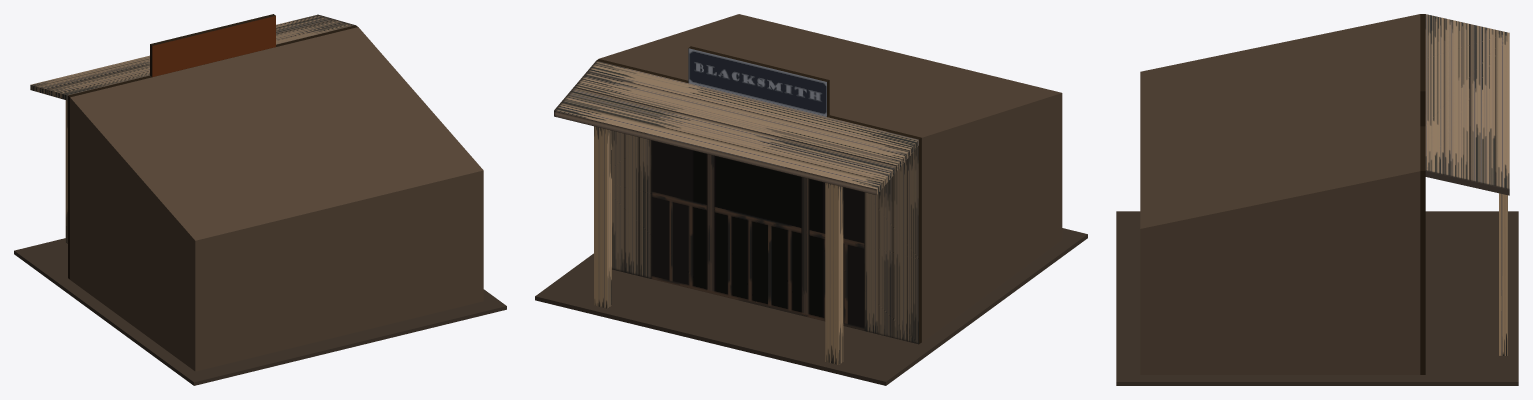
The model's file is BlacksmithWBackTex5.fbx.
3 renders of one model, left to right at view 1: azimuth 30°, elevation 25°; view 2: azimuth 150°, elevation 25°; view 3: azimuth 270°, elevation 25°, orthographic. The views are drawn at different scales.
Parts seen in each view (by area): view 1: pCube12, pCube4, polySurface1, polySurface2, pCube11; view 2: polySurface1, pCube12, polySurface2, pCube4, pCube11; view 3: pCube12, pCube4, polySurface2, polySurface1, pCube11.
Boxes of the visible parts, left/top/right/bottom form: pCube12: left=70, top=27, right=483, bottom=371; pCube4: left=14, top=238, right=506, bottom=385; polySurface1: left=68, top=14, right=357, bottom=279; polySurface2: left=30, top=14, right=355, bottom=100; pCube11: left=65, top=100, right=67, bottom=243; polySurface1: left=596, top=46, right=921, bottom=344; pCube12: left=599, top=14, right=1062, bottom=342; polySurface2: left=554, top=61, right=918, bottom=195; pCube4: left=535, top=228, right=1087, bottom=385; pCube11: left=594, top=126, right=843, bottom=364; pCube12: left=1140, top=14, right=1420, bottom=374; pCube4: left=1116, top=211, right=1518, bottom=385; polySurface2: left=1425, top=14, right=1509, bottom=195; polySurface1: left=1420, top=14, right=1425, bottom=374; pCube11: left=1499, top=193, right=1507, bottom=355.
Bounding box in the file's own units: 36.55 × 24.29 × 36.42.
5 materials, 1 textured.
